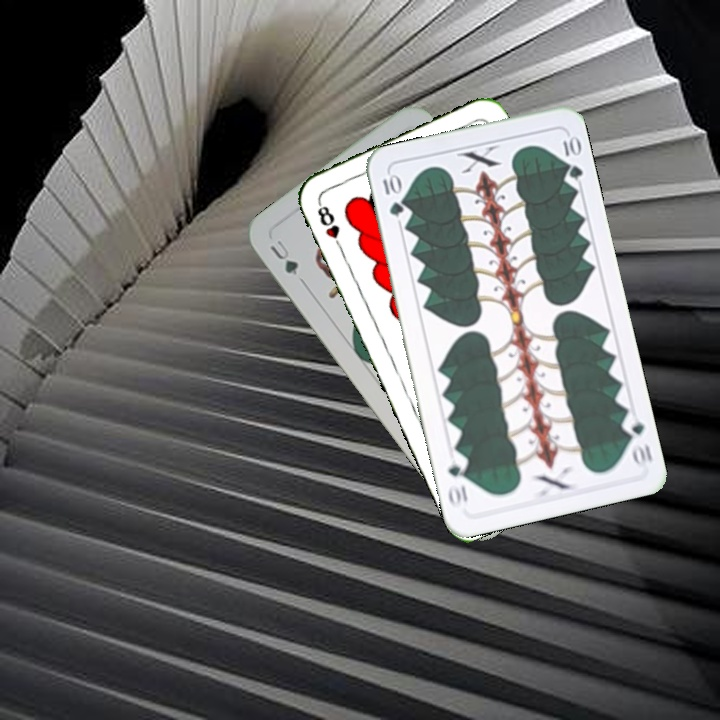G10: (618, 412, 655, 469), (378, 170, 406, 219)
GU: (265, 234, 301, 278)
H8: (313, 198, 346, 254)
